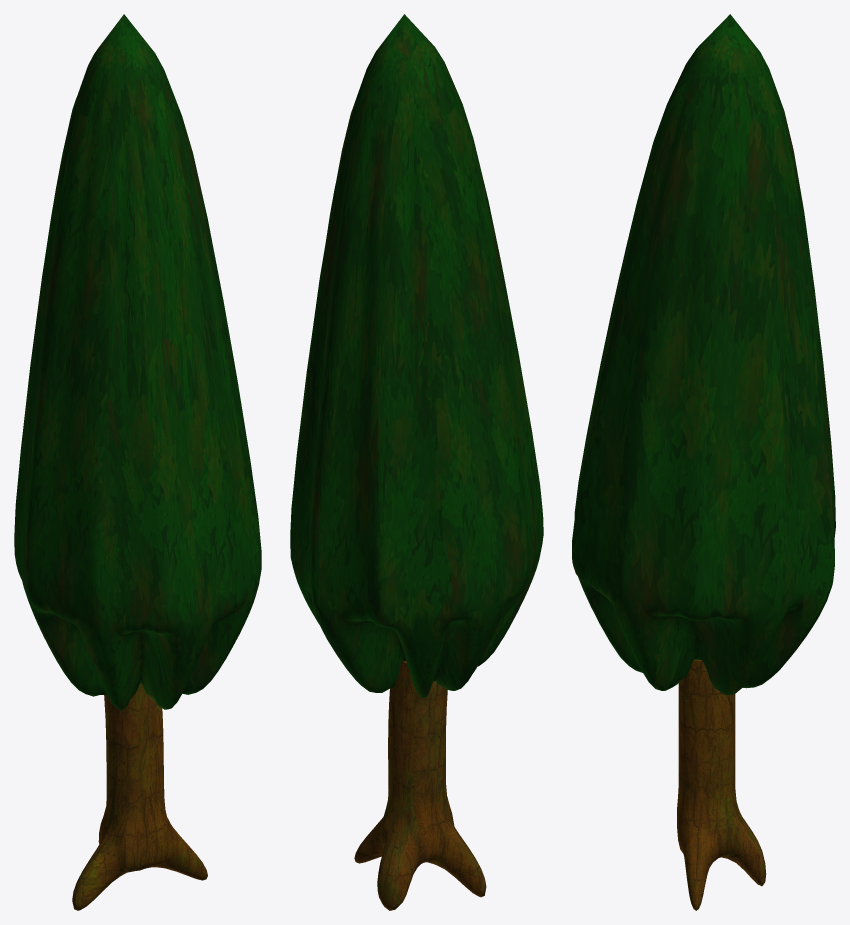
Rendered from Arvore01.fbx.
3 renders of one model, left to right at view 1: azimuth 30°, elevation 25°; view 2: azimuth 150°, elevation 25°; view 3: azimuth 270°, elevation 25°, orthographic.
Visible parts, largest first — view 1: pCone3, pCube4; view 2: pCone3, pCube4; view 3: pCone3, pCube4.
Boxes of the visible parts, x1,y1,x2,y2 form: pCone3: [14, 14, 261, 710]; pCube4: [72, 682, 207, 910]; pCone3: [290, 14, 543, 697]; pCube4: [354, 660, 486, 910]; pCone3: [572, 14, 835, 695]; pCube4: [677, 659, 766, 910].
Size of the model in its own units: 7.88 by 30.94 by 8.48.
Materials: 2 (2 with a texture image).
